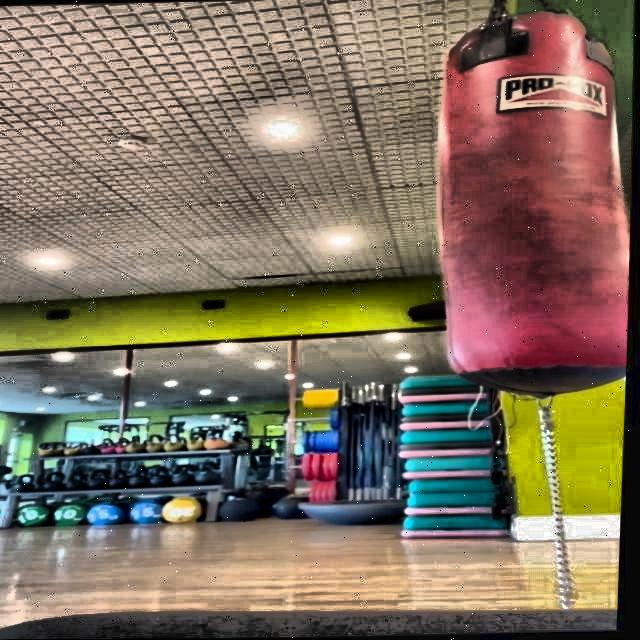boxing-bag: (434, 0, 640, 403)
